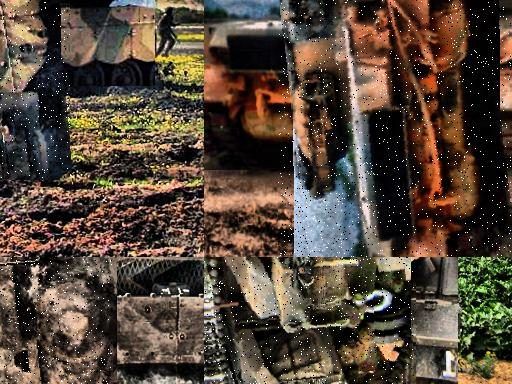tanks: (282, 1, 512, 258), (205, 258, 416, 384), (1, 258, 113, 384), (1, 1, 71, 179)
